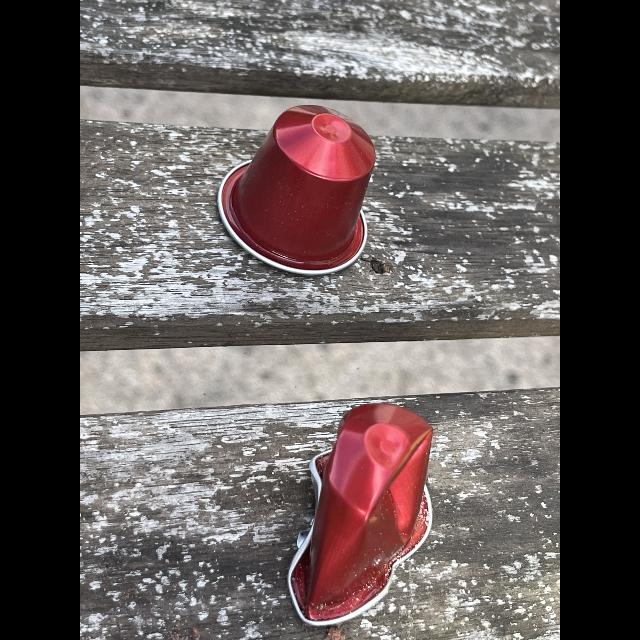damaged_capsule: (273, 382, 487, 640)
intact_capsule: (175, 98, 393, 284)
